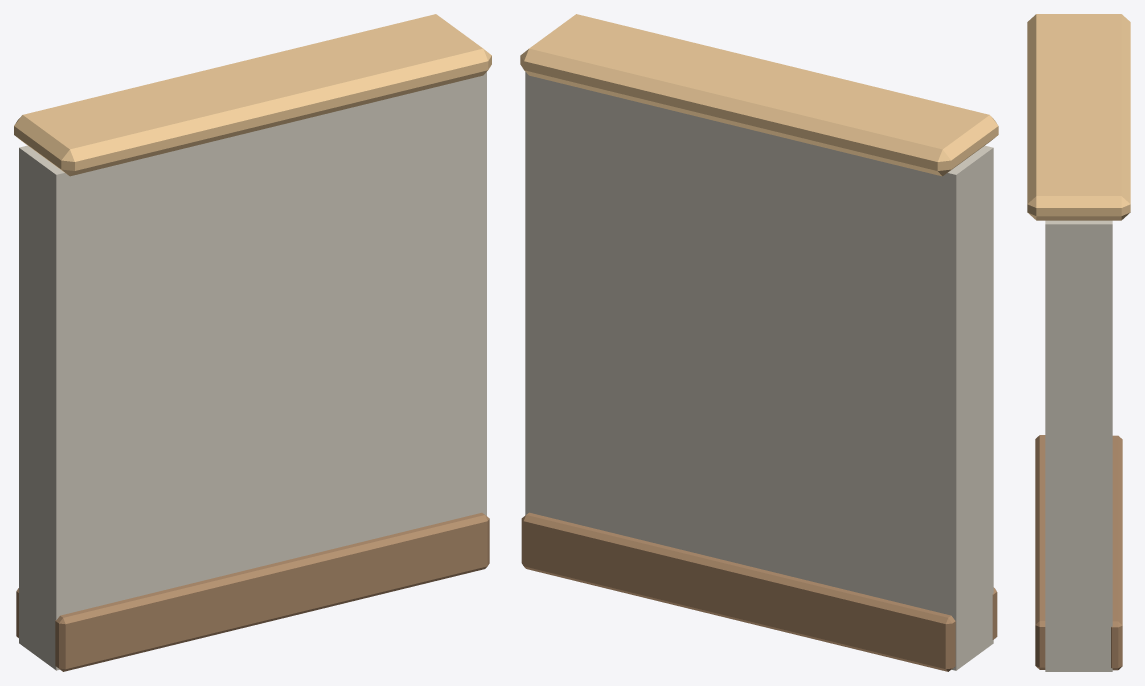
The model's file is cozy-home-interiors-wall-half-partition-1m-f928ae3a.glb.
3 renders of one model, left to right at view 1: azimuth 30°, elevation 25°; view 2: azimuth 150°, elevation 25°; view 3: azimuth 270°, elevation 25°, orthographic. The views are drawn at different scales.
Visible parts, largest first — view 1: wall-half-partition-1m; view 2: wall-half-partition-1m; view 3: wall-half-partition-1m.
Part boxes in pixels (x1=…): wall-half-partition-1m: x1=14, y1=14, x2=491, y2=671; wall-half-partition-1m: x1=520, y1=14, x2=998, y2=671; wall-half-partition-1m: x1=1027, y1=14, x2=1130, y2=671.
Size of the model in its own units: 1 by 1.16 by 0.23.
